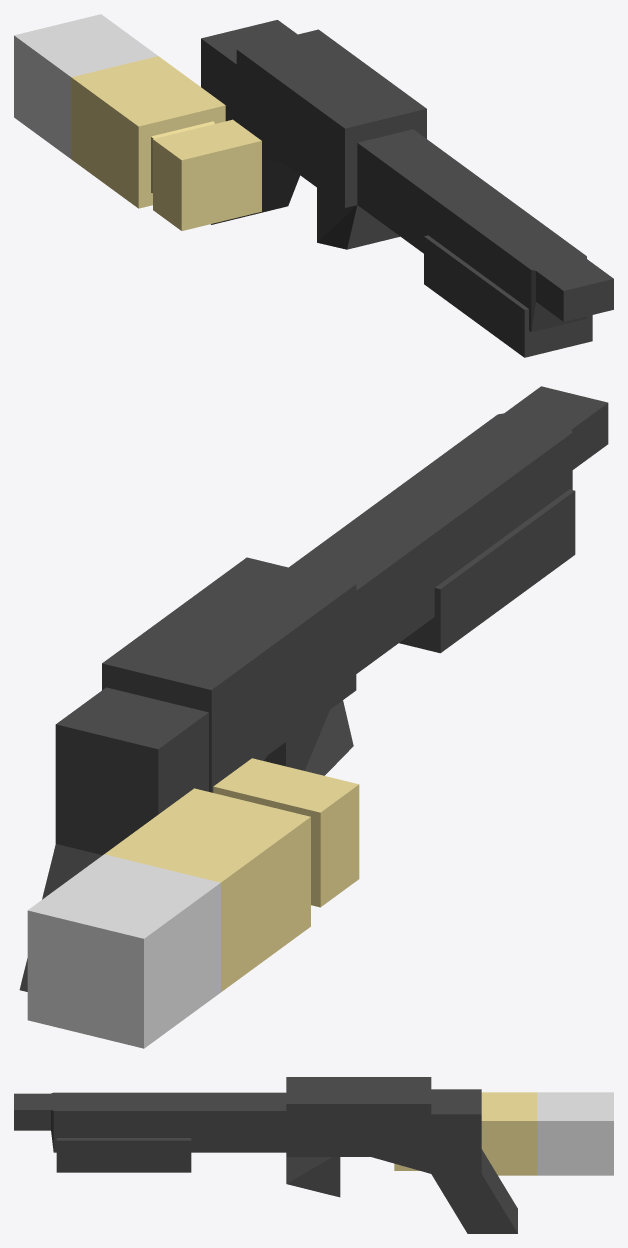
The model's file is shotgun.obj.
3 views of the same model, one above another, from view 1: azimuth 30°, elevation 25°; view 2: azimuth 150°, elevation 25°; view 3: azimuth 270°, elevation 25° (orthographic). The views are drawn at different scales.
Visible parts, largest first — view 1: cube3, cube5, cube4; view 2: cube3, cube5, cube4; view 3: cube3, cube5, cube4.
Part boxes in pixels (box(x1,y1,x2,y2)): cube3: box(201, 20, 613, 332); cube5: box(14, 14, 261, 230); cube4: box(424, 235, 592, 357); cube3: box(19, 386, 608, 991); cube5: box(27, 758, 359, 1048); cube4: box(399, 489, 575, 653); cube3: box(14, 1077, 517, 1233); cube5: box(394, 1092, 613, 1175); cube4: box(56, 1138, 191, 1172).
Size of the model in its own units: 15.43 by 17.18 by 71.29.
3 materials, 3 textured.
